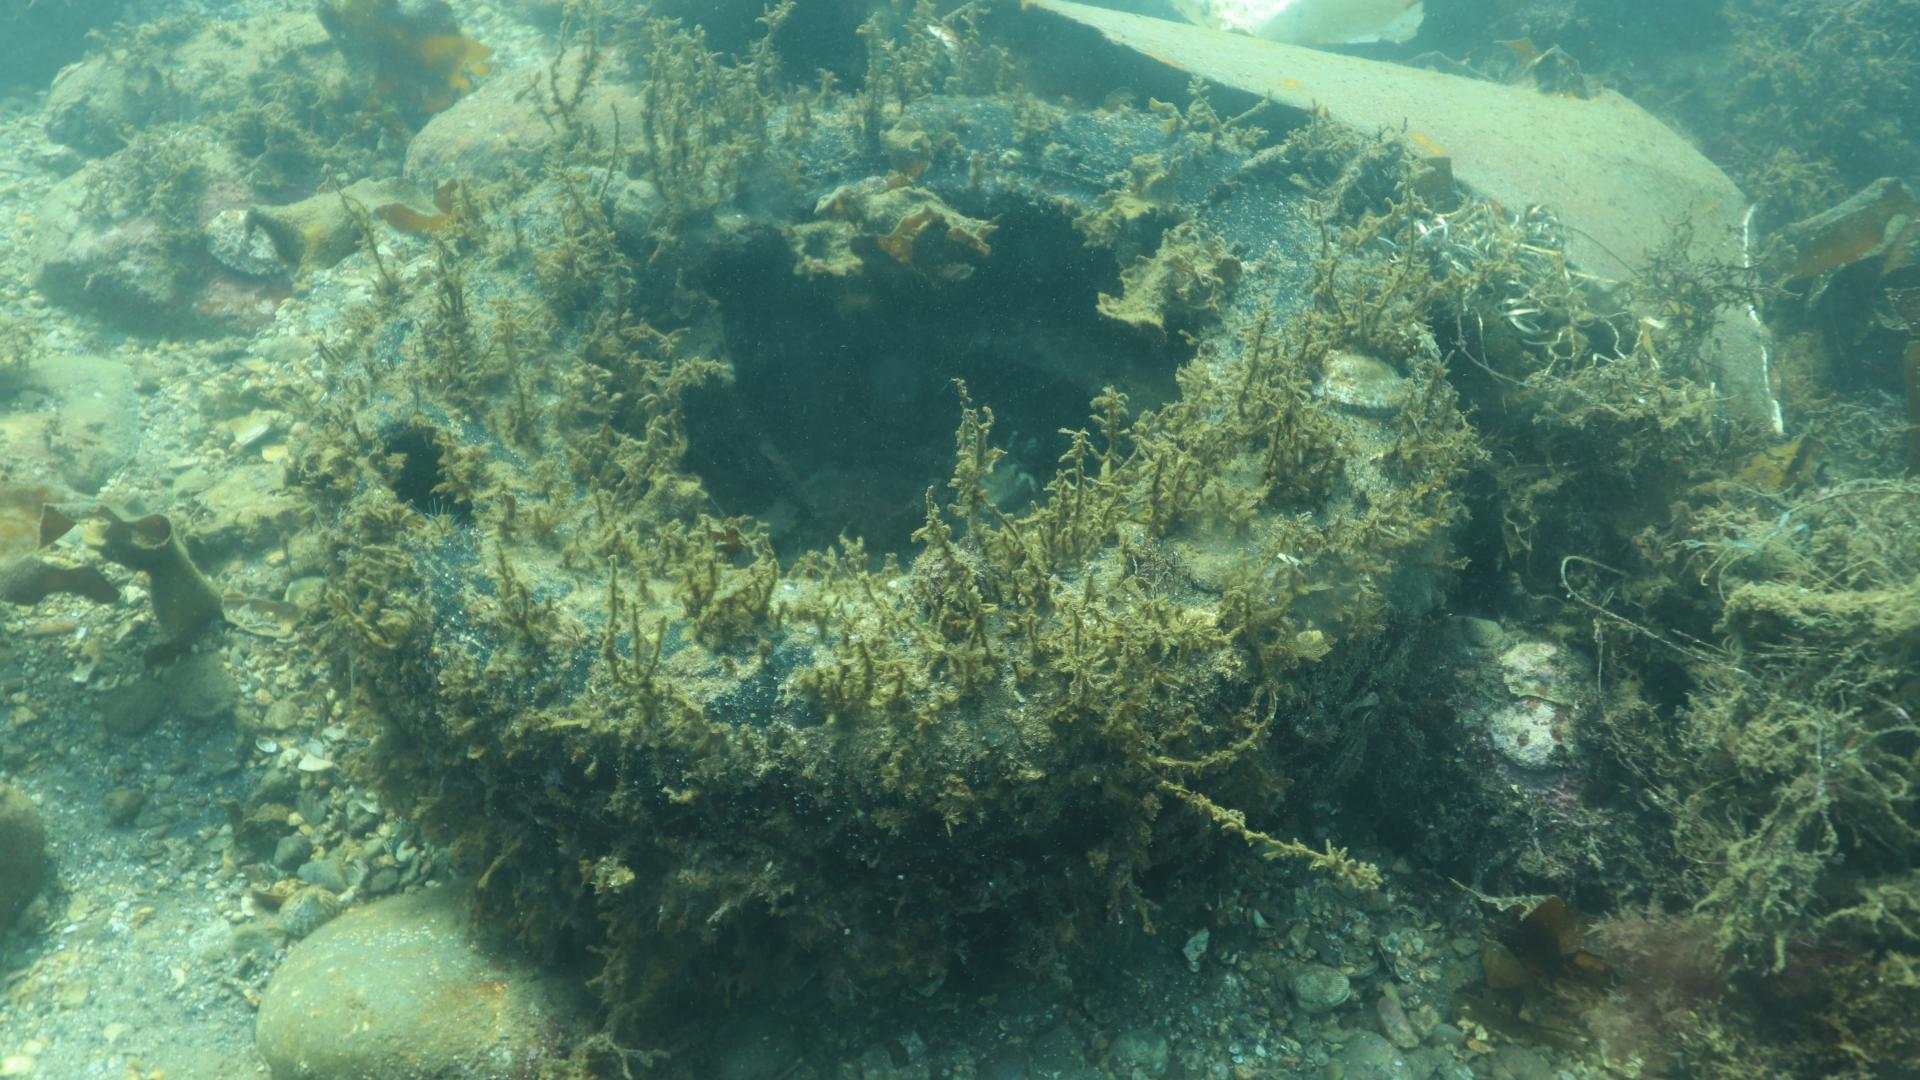tire: (303, 91, 1457, 980)
